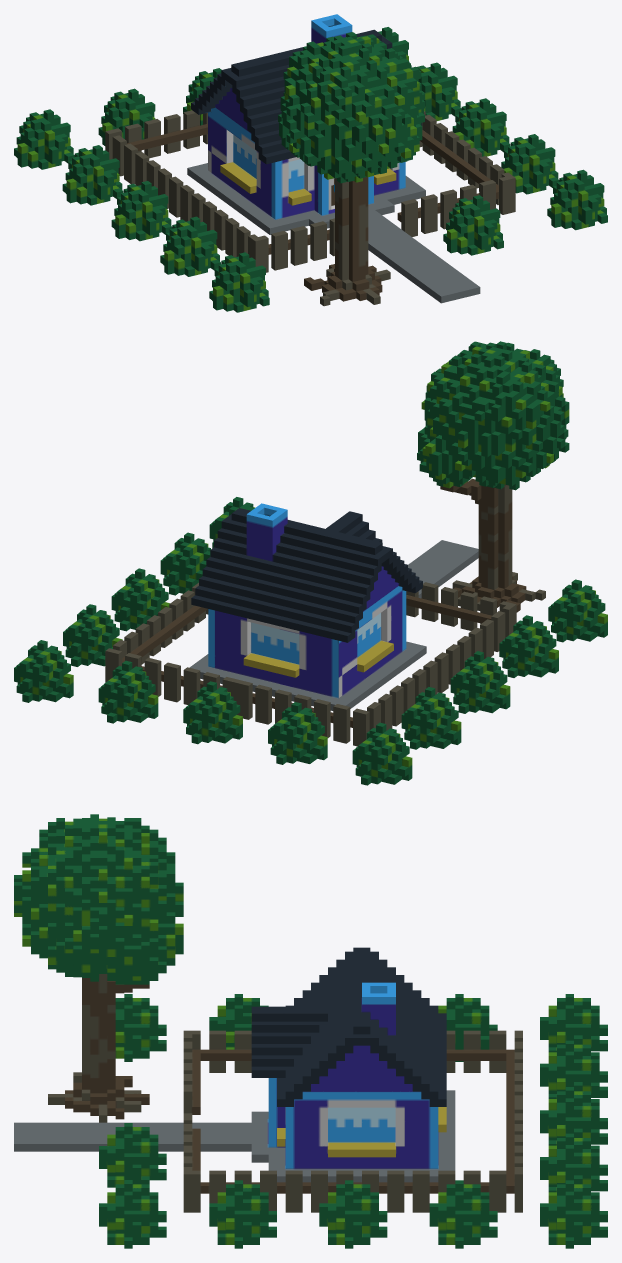
The model's file is building_small_2_overtile.glb.
3 renders of one model, top to bottom at view 1: azimuth 30°, elevation 25°; view 2: azimuth 150°, elevation 25°; view 3: azimuth 270°, elevation 25°, orthographic. The views are drawn at different scales.
Visible parts, largest first — view 1: building_small_2_overtile; view 2: building_small_2_overtile; view 3: building_small_2_overtile.
Boxes of the visible parts, x1=… form: building_small_2_overtile: x1=14, y1=14, x2=607, y2=312; building_small_2_overtile: x1=14, y1=341, x2=607, y2=785; building_small_2_overtile: x1=14, y1=814, x2=607, y2=1248.
Size of the model in its own units: 6 by 3.6 by 7.
1 material, 1 textured.
